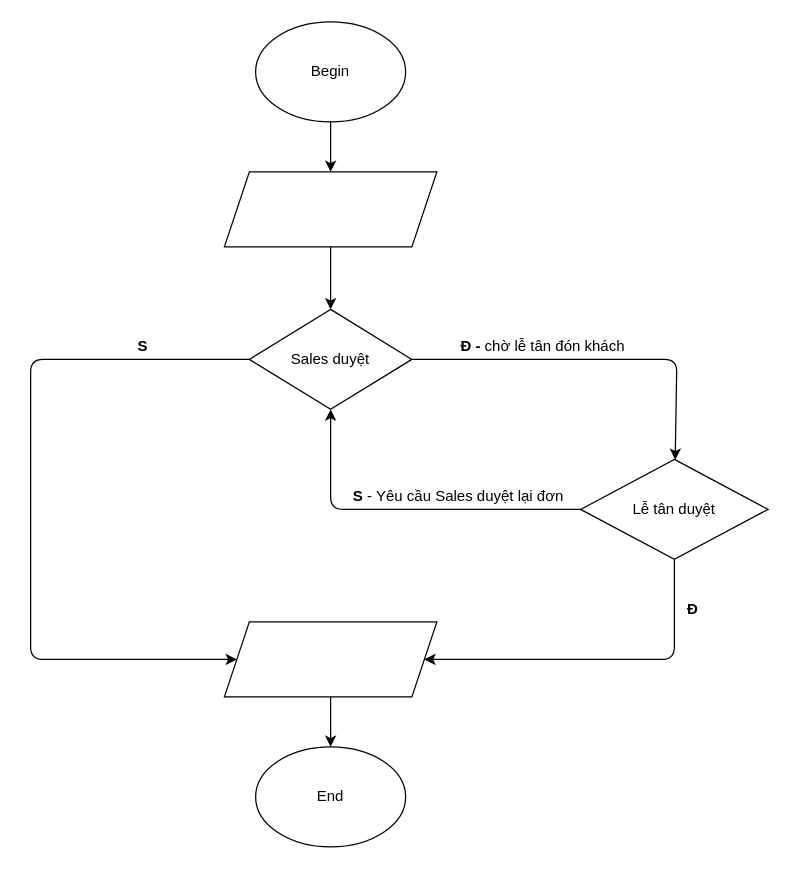
This 790x869 diagram has some shape labels left out. Each missing label, with the centre of its shape:
"Thực hiện quy trình khám" goes at (330,659).
"đơn booking" goes at (330,209).
